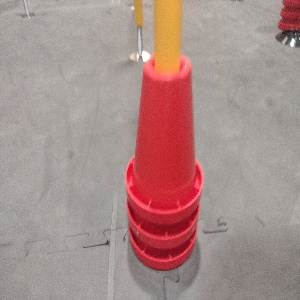Red_3: (123, 52, 204, 272)
